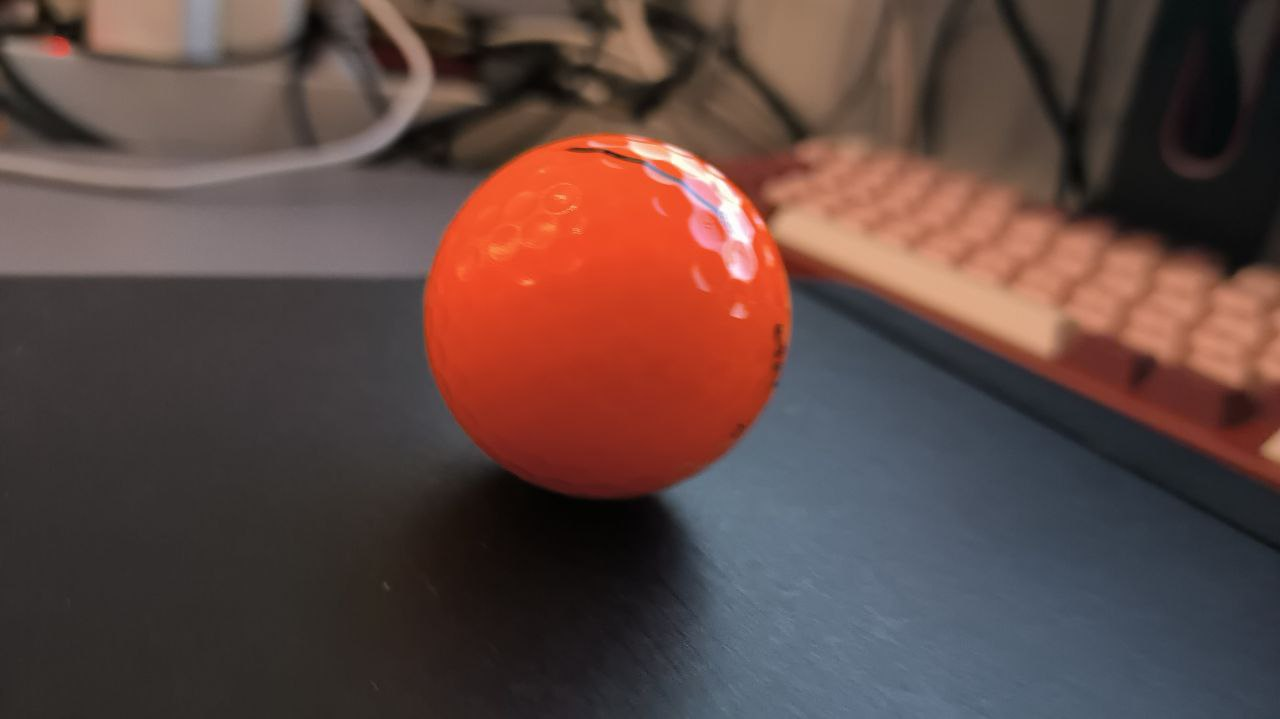orange_ball: (423, 133, 793, 502)
